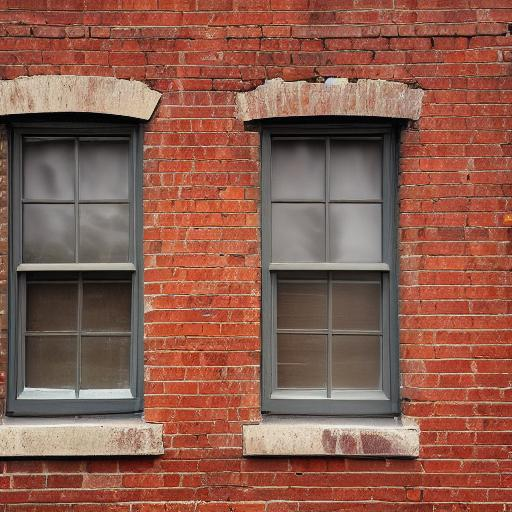Window: (1, 75, 426, 459)
